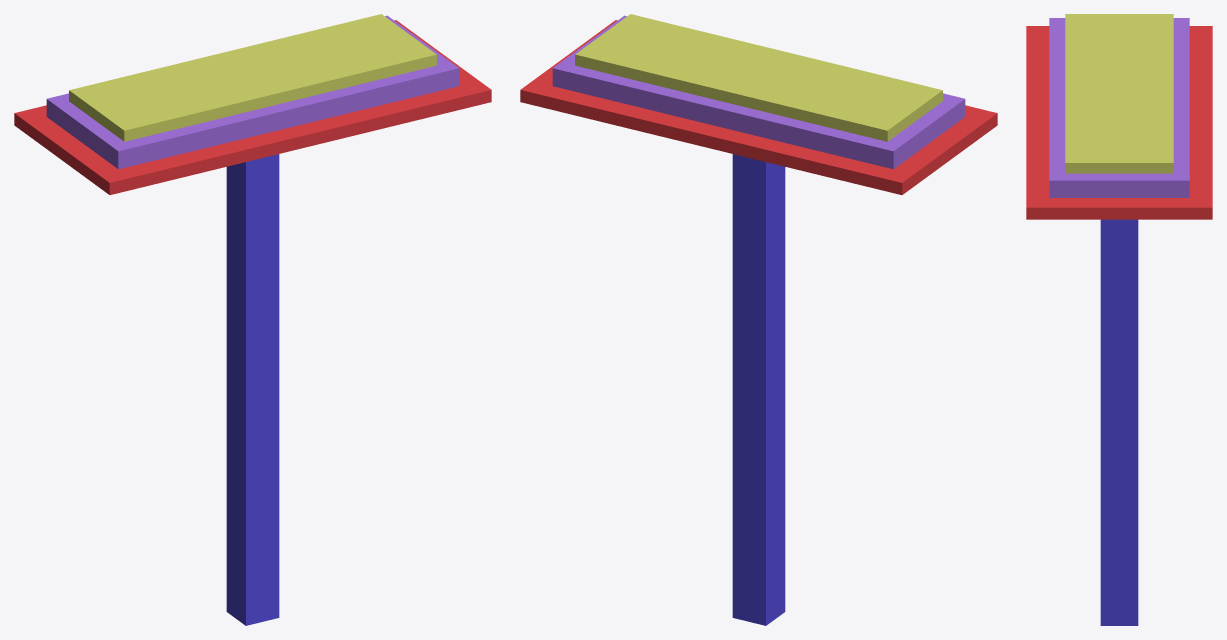
Rendered from baston.fbx.
The picture shows the model from 3 angles, left to right: view 1: azimuth 30°, elevation 25°; view 2: azimuth 150°, elevation 25°; view 3: azimuth 270°, elevation 25°; orthographic projection. The views are drawn at different scales.
Visible parts, largest first — view 1: Baston; view 2: Baston; view 3: Baston.
Part boxes in pixels (box(x1,y1,x2,y2)): Baston: box(14, 14, 491, 625); Baston: box(520, 14, 997, 625); Baston: box(1026, 14, 1212, 625).
Bounding box in the file's own units: 3.46 × 4.7 × 1.5.
